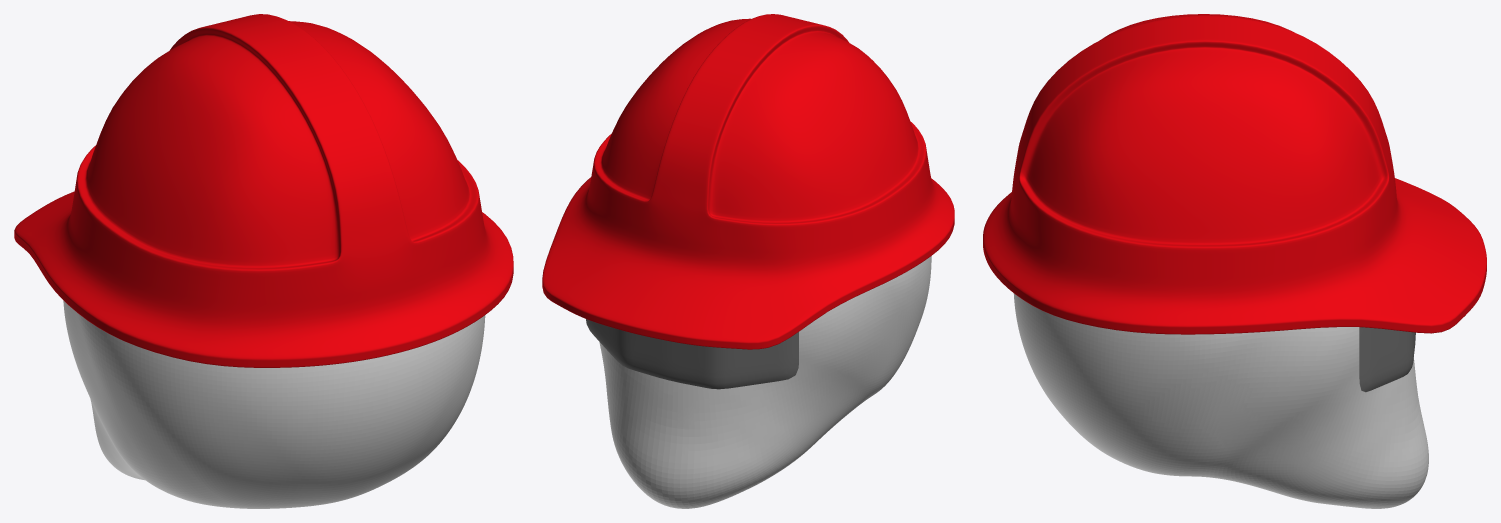
Rendered from avatarhead.fbx.
3 views of the same model, side by side, from view 1: azimuth 30°, elevation 25°; view 2: azimuth 150°, elevation 25°; view 3: azimuth 270°, elevation 25° (orthographic). The views are drawn at different scales.
Parts seen in each view (by area): view 1: 16617_Forestry_Safety_Hard_Hat_v1, Quad Sphere; view 2: 16617_Forestry_Safety_Hard_Hat_v1, Quad Sphere, Plane; view 3: 16617_Forestry_Safety_Hard_Hat_v1, Quad Sphere, Plane.
Boxes of the visible parts, box(x1,y1,x2,y2) form: 16617_Forestry_Safety_Hard_Hat_v1: box(14, 14, 513, 367); Quad Sphere: box(63, 300, 485, 508); 16617_Forestry_Safety_Hard_Hat_v1: box(542, 14, 954, 349); Quad Sphere: box(599, 256, 931, 508); Plane: box(586, 319, 798, 389); 16617_Forestry_Safety_Hard_Hat_v1: box(983, 14, 1486, 334); Quad Sphere: box(1013, 293, 1428, 508); Plane: box(1359, 327, 1415, 392).
Bounding box in the file's own units: 277 × 332 × 322.
